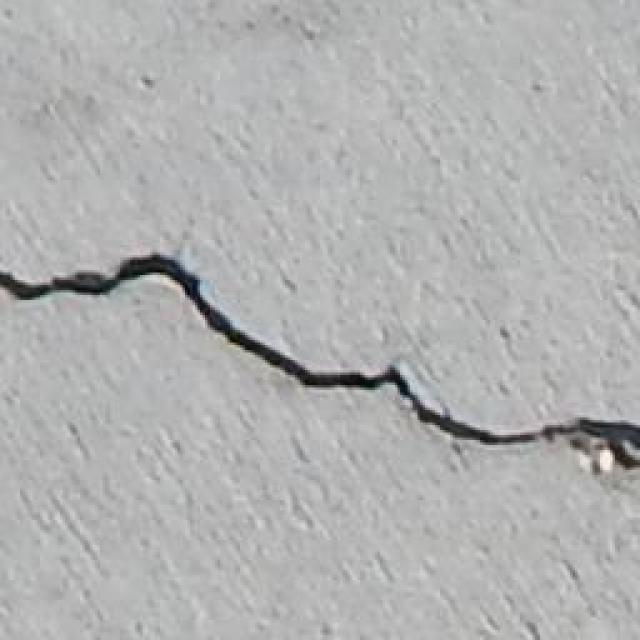concrete-crack: (0, 252, 640, 470)
